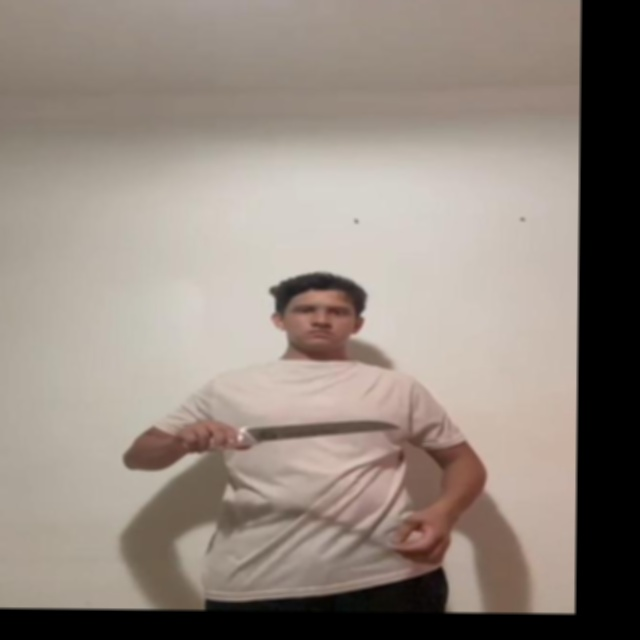Sharp-Object: (243, 418, 398, 444)
